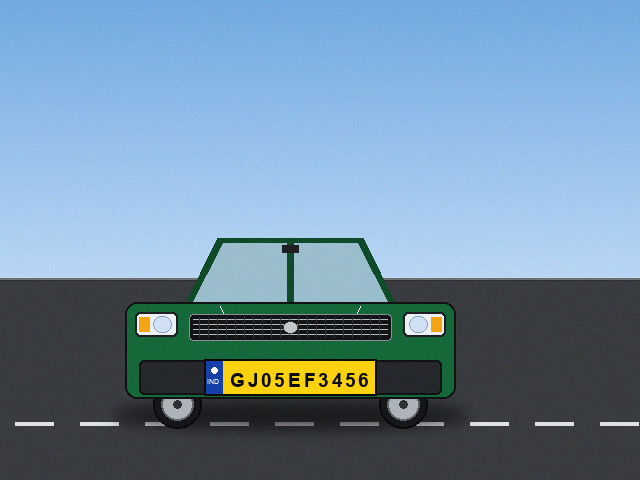licence: (204, 359, 376, 395)
